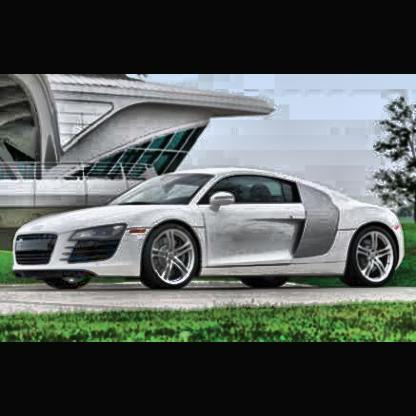Audi R8 Coupe 2012: (11, 169, 407, 292)
